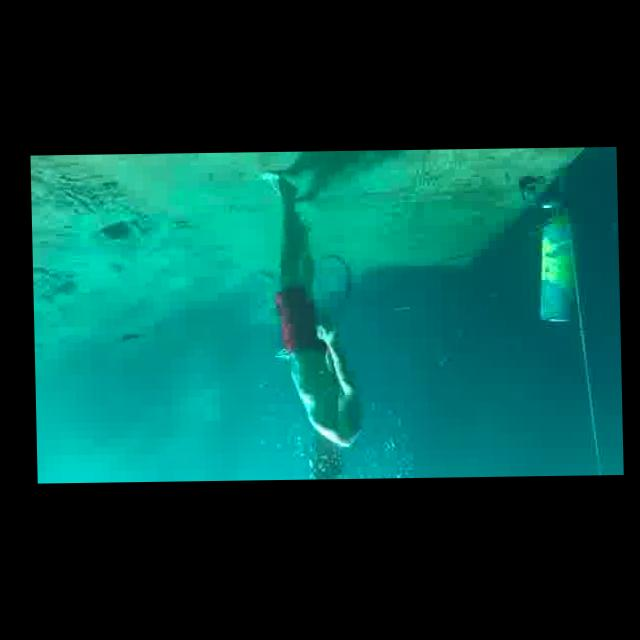human: (261, 166, 363, 481)
